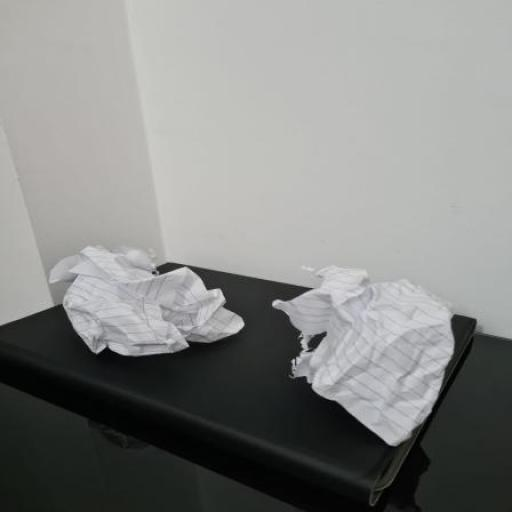paper: (247, 244, 492, 458), (30, 232, 256, 376)
